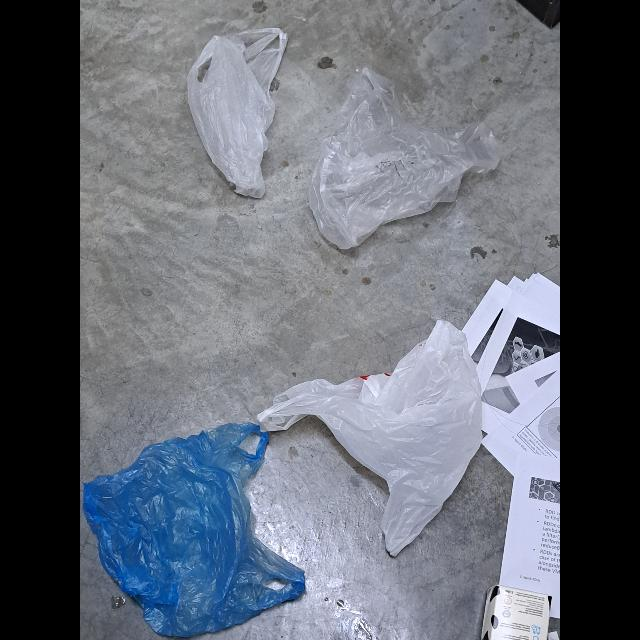caixinha: (478, 584, 552, 640)
papel: (462, 272, 560, 586)
sacola plástica: (260, 317, 480, 559), (86, 418, 304, 640), (308, 66, 497, 250), (187, 27, 287, 199)
